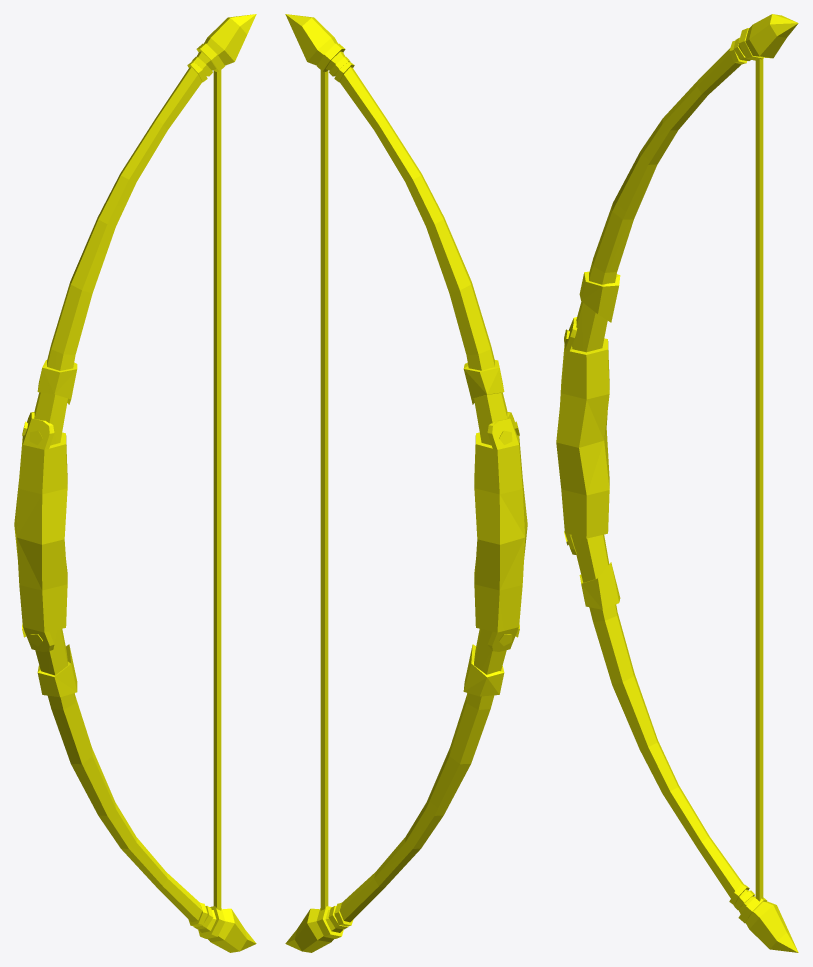
Rendered from _bow_1.glb.
3 renders of one model, left to right at view 1: azimuth 30°, elevation 25°; view 2: azimuth 150°, elevation 25°; view 3: azimuth 330°, elevation 25°, orthographic.
Parts seen in each view (by area): view 1: bow_1; view 2: bow_1; view 3: bow_1.
Part boxes in pixels (x1,y1,x2,y2): bow_1: [14, 14, 256, 952]; bow_1: [285, 14, 527, 952]; bow_1: [556, 14, 798, 952].
Bounding box in the file's own units: 0.2517 × 0.9369 × 0.0503.
1 material, 1 textured.
